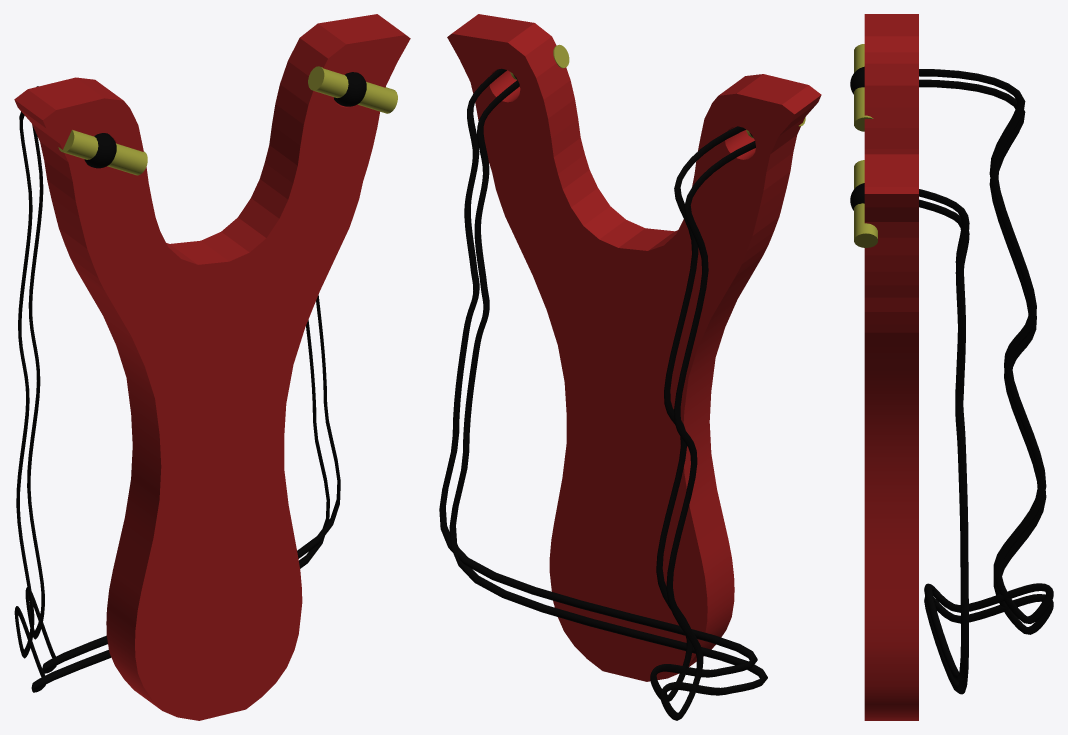
File: Toy1.FBX
The picture shows the model from 3 angles, left to right: view 1: azimuth 30°, elevation 25°; view 2: azimuth 150°, elevation 25°; view 3: azimuth 270°, elevation 25°; orthographic projection. The views are drawn at different scales.
Parts seen in each view (by area): view 1: Low Poly; view 2: Low Poly; view 3: Low Poly.
Boxes of the visible parts, left/top/right/bottom form: Low Poly: left=14, top=14, right=410, bottom=720; Low Poly: left=439, top=14, right=821, bottom=720; Low Poly: left=850, top=14, right=1053, bottom=720.
Size of the model in its own units: 48.59 by 81.5 by 24.32.
